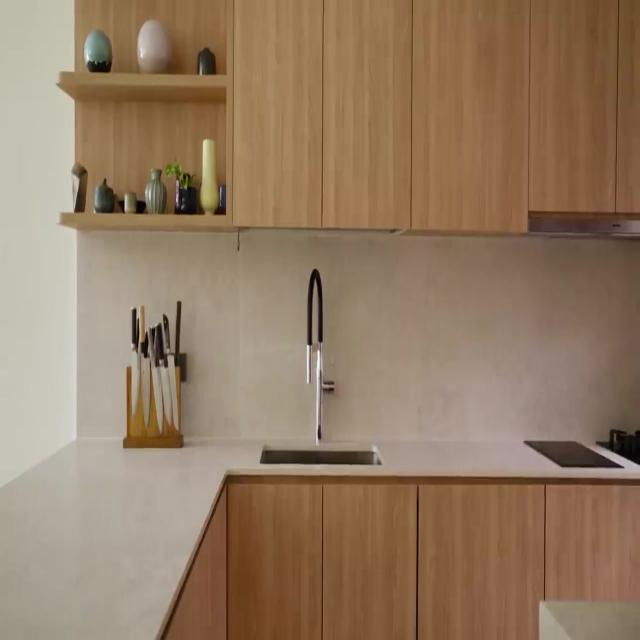obstacle: (55, 0, 235, 233), (528, 0, 640, 235)
